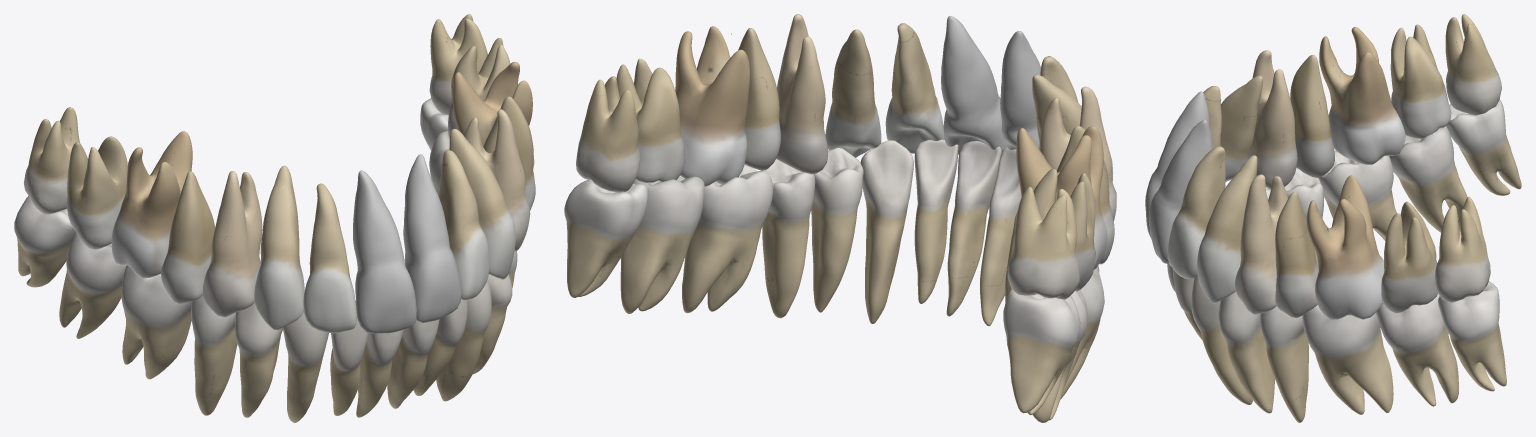
File: All_Teeth.fbx
3 renders of one model, left to right at view 1: azimuth 30°, elevation 25°; view 2: azimuth 150°, elevation 25°; view 3: azimuth 270°, elevation 25°, orthographic. The views are drawn at different scales.
Visible parts, largest first — view 1: ZBrushPolyMesh3D2 (×2), ZBrushPolyMesh3D1 (×2), polySurface2, polySurface8, ZBrushPolyMesh3D3 (×2), polySurface1, ZBrushPolyMesh3D5 (×2), ZBrushPolyMesh3D8, polySurface6, ZBrushPolyMesh3D4 (×2), ZBrushPolyMesh3D7 (×2), polySurface10 (+12 smaller); view 2: ZBrushPolyMesh3D7 (×2), ZBrushPolyMesh3D5, LL6seam_2:ZBrushPolyMesh3D, LL7seam_2:ZBrushPolyMesh3D, ZBrushPolyMesh3D, LL8seam_2:ZBrushPolyMesh3D, ZBrushPolyMesh3D2 (×2), LL3seam_2:ZBrushPolyMesh3D, polySurface12, ZBrushPolyMesh3D1 (×2), ZBrushPolyMesh3D3, polySurface1 (+13 smaller); view 3: ZBrushPolyMesh3D1 (×2), ZBrushPolyMesh3D2 (×2), ZBrushPolyMesh3D5, polySurface8, LL6seam_2:ZBrushPolyMesh3D, LL7seam_2:ZBrushPolyMesh3D, ZBrushPolyMesh3D4 (×2), polySurface10, ZBrushPolyMesh3D3, polySurface9, LL8seam_2:ZBrushPolyMesh3D, ZBrushPolyMesh3D8 (+12 smaller).
Part boxes in pixels (left/top/right/bottom): ZBrushPolyMesh3D2 (×2): left=121, top=128, right=515, bottom=379; ZBrushPolyMesh3D1 (×2): left=59, top=150, right=489, bottom=338; polySurface2: left=353, top=170, right=416, bottom=333; polySurface8: left=111, top=131, right=192, bottom=278; ZBrushPolyMesh3D3 (×2): left=235, top=109, right=530, bottom=417; polySurface1: left=403, top=154, right=461, bottom=322; ZBrushPolyMesh3D5 (×2): left=283, top=62, right=534, bottom=422; ZBrushPolyMesh3D8: left=202, top=171, right=262, bottom=317; polySurface6: left=254, top=165, right=304, bottom=329; ZBrushPolyMesh3D4 (×2): left=191, top=96, right=535, bottom=415; ZBrushPolyMesh3D7 (×2): left=356, top=14, right=487, bottom=417; polySurface10: left=66, top=136, right=127, bottom=249; ZBrushPolyMesh3D7 (×2): left=576, top=76, right=1021, bottom=326; ZBrushPolyMesh3D5: left=675, top=26, right=750, bottom=186; LL6seam_2:ZBrushPolyMesh3D: left=682, top=164, right=772, bottom=313; LL7seam_2:ZBrushPolyMesh3D: left=620, top=176, right=704, bottom=313; ZBrushPolyMesh3D: left=1003, top=289, right=1080, bottom=415; LL8seam_2:ZBrushPolyMesh3D: left=564, top=179, right=648, bottom=297; ZBrushPolyMesh3D2 (×2): left=825, top=29, right=1104, bottom=399; LL3seam_2:ZBrushPolyMesh3D: left=860, top=140, right=913, bottom=323; polySurface12: left=1007, top=187, right=1079, bottom=299; ZBrushPolyMesh3D1 (×2): left=885, top=23, right=1087, bottom=422; ZBrushPolyMesh3D3: left=776, top=14, right=827, bottom=174; polySurface1: left=941, top=16, right=1007, bottom=154; ZBrushPolyMesh3D1 (×2): left=1167, top=126, right=1467, bottom=279; ZBrushPolyMesh3D2 (×2): left=1196, top=150, right=1396, bottom=303; ZBrushPolyMesh3D5: left=1306, top=175, right=1384, bottom=320; polySurface8: left=1319, top=27, right=1405, bottom=164; LL6seam_2:ZBrushPolyMesh3D: left=1302, top=305, right=1393, bottom=414; LL7seam_2:ZBrushPolyMesh3D: left=1376, top=293, right=1458, bottom=406; ZBrushPolyMesh3D4 (×2): left=1275, top=168, right=1323, bottom=317; polySurface10: left=1390, top=24, right=1451, bottom=138; ZBrushPolyMesh3D3: left=1235, top=174, right=1287, bottom=314; polySurface9: left=1381, top=201, right=1437, bottom=313; LL8seam_2:ZBrushPolyMesh3D: left=1438, top=281, right=1506, bottom=391; ZBrushPolyMesh3D8: left=1248, top=50, right=1297, bottom=189.
Bounding box in the file's own units: 7.03 × 4.18 × 5.17.
